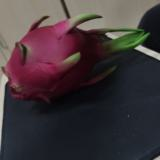pitaya: (9, 15, 133, 96)
